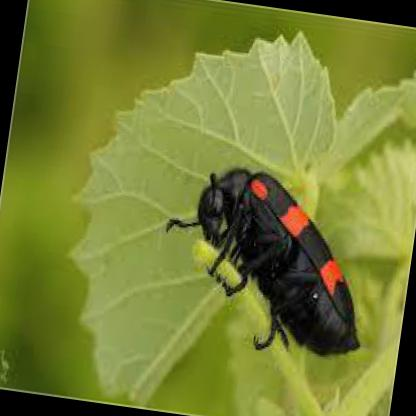blister beetle: (166, 166, 360, 358)
